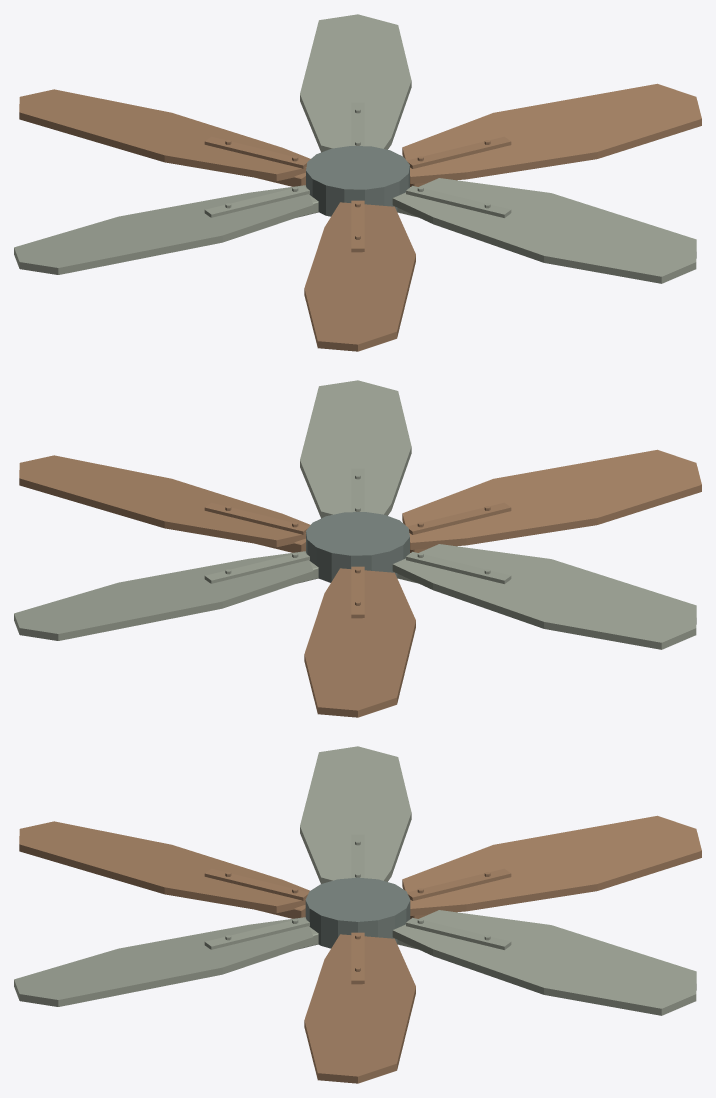
File: FanRotor.fbx
The picture shows the model from 3 angles, top to bottom: view 1: azimuth 30°, elevation 25°; view 2: azimuth 150°, elevation 25°; view 3: azimuth 270°, elevation 25°; orthographic projection.
Visible parts, largest first — view 1: Blades__Rust, Blades__WornSteel, Hub__Steel; view 2: Blades__Rust, Blades__WornSteel, Hub__Steel; view 3: Blades__Rust, Blades__WornSteel, Hub__Steel.
Boxes of the visible parts, x1,y1,x2,y2 form: Blades__Rust: [19, 83, 701, 351]; Blades__WornSteel: [14, 14, 696, 283]; Hub__Steel: [306, 146, 409, 216]; Blades__Rust: [19, 449, 701, 717]; Blades__WornSteel: [14, 380, 696, 649]; Hub__Steel: [306, 512, 409, 582]; Blades__Rust: [19, 815, 701, 1083]; Blades__WornSteel: [14, 746, 696, 1015]; Hub__Steel: [305, 877, 410, 948].
Size of the model in its own units: 7 by 0.3 by 6.16.
